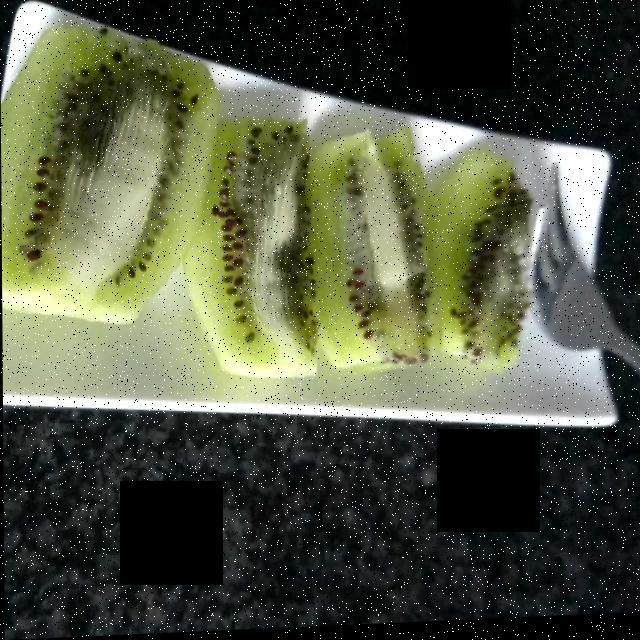kiwi: (3, 33, 544, 377)
